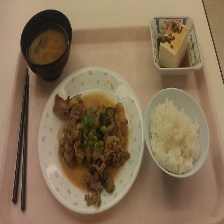rice: (144, 99, 206, 175)
